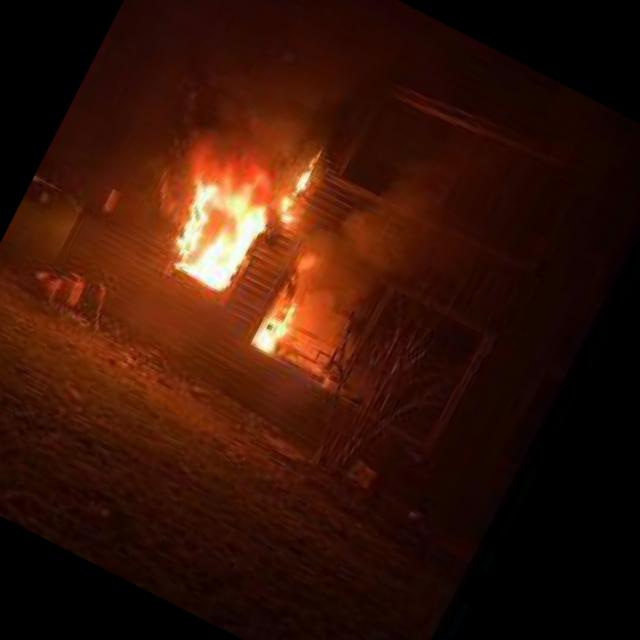fire: (156, 148, 278, 294), (270, 140, 328, 226), (249, 286, 307, 356)
